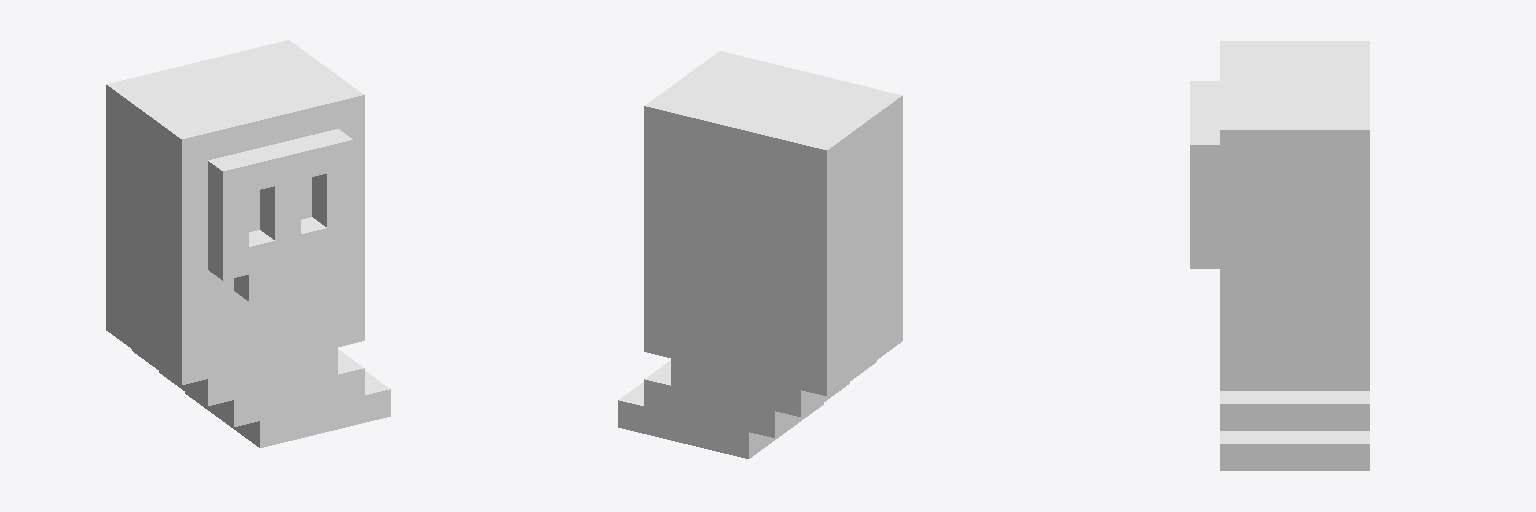
Rendered from enemy02_edit.obj.
3 views of the same model, side by side, from view 1: azimuth 30°, elevation 25°; view 2: azimuth 150°, elevation 25°; view 3: azimuth 270°, elevation 25° (orthographic).
Visible parts, largest first — view 1: object 1; view 2: object 1; view 3: object 1.
Part boxes in pixels (x1,y1,x2,y2): object 1: (106, 40, 390, 447); object 1: (618, 51, 902, 458); object 1: (1190, 41, 1369, 470).
Bounding box in the file's own units: 0.8 × 1.2 × 0.6.